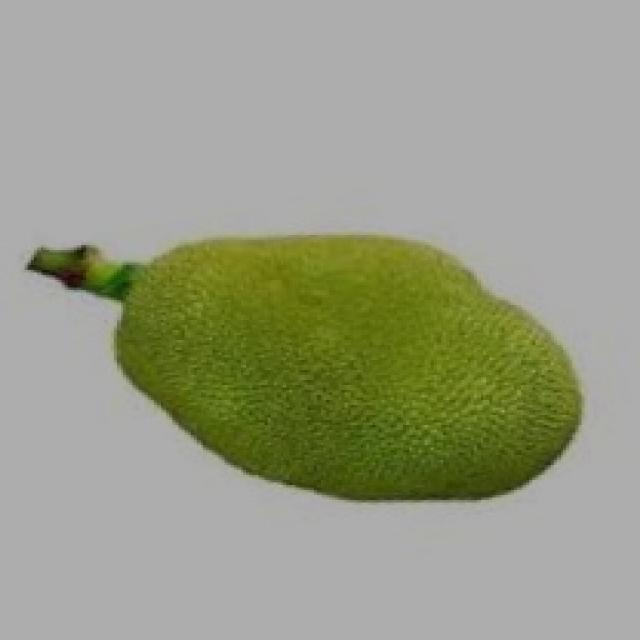Fruit: (200, 215, 606, 533)
